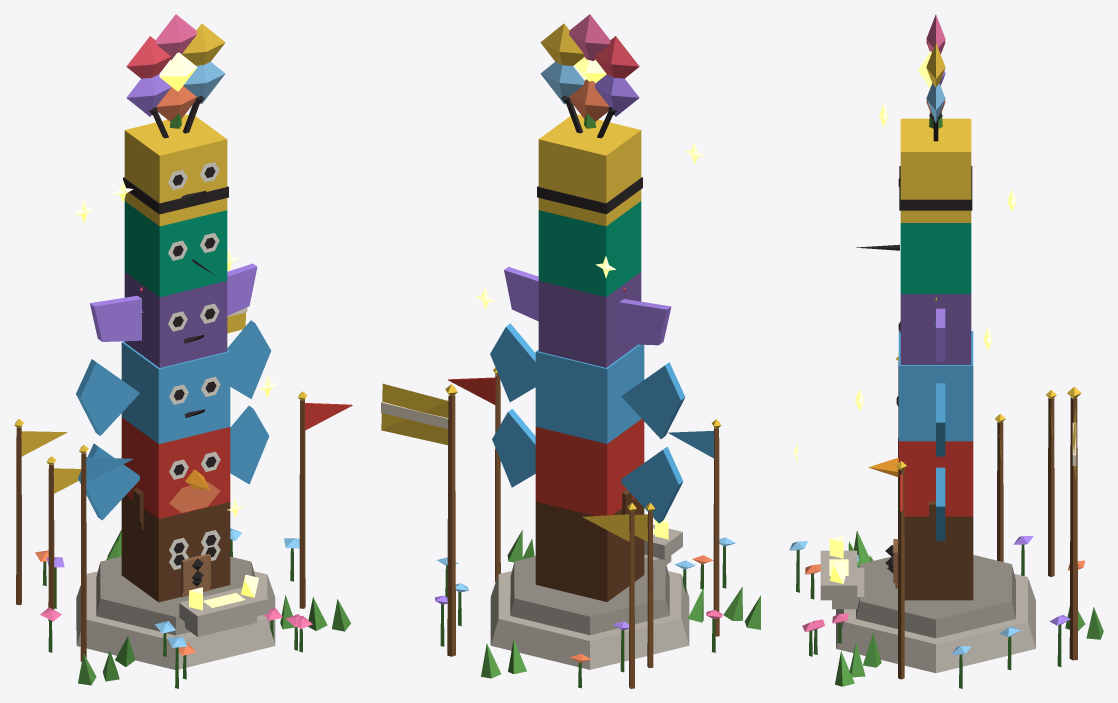
Rendered from meadow-totem.glb.
3 views of the same model, side by side, from view 1: azimuth 30°, elevation 25°; view 2: azimuth 150°, elevation 25°; view 3: azimuth 270°, elevation 25° (orthographic).
Parts seen in each view (by area): view 1: lv3, lv2, lv1; view 2: lv3, lv2; view 3: lv3, lv2, lv1.
Part boxes in pixels (x1,y1,x2,y2): lv3: (14,14,352,688); lv2: (46,287,327,681); lv1: (115,513,294,666); lv3: (381,14,760,688); lv2: (455,287,742,673); lv3: (789,14,1103,688); lv2: (805,297,1085,677); lv1: (832,531,935,667).
Bounding box in the file's own units: 1.48 × 2.93 × 1.36.
